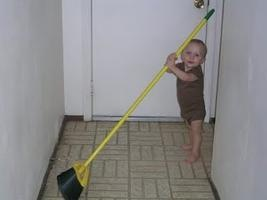person without safety: (161, 37, 209, 164)
